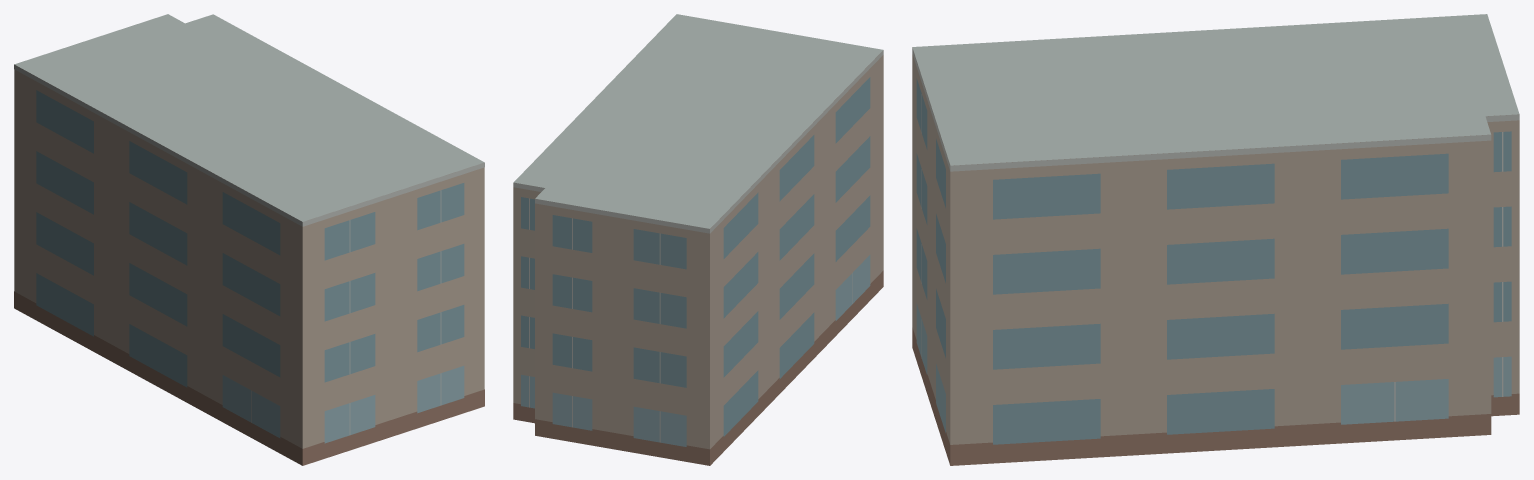
Rendered from residential-8a03fdad-a760-410e-9f4b-f76c2251be18.glb.
3 renders of one model, left to right at view 1: azimuth 30°, elevation 25°; view 2: azimuth 150°, elevation 25°; view 3: azimuth 270°, elevation 25°, orthographic. The views are drawn at different scales.
Parts seen in each view (by area): view 1: residential-8a03fdad-a760-410e-9f4b-f76c2251be18.tmp; view 2: residential-8a03fdad-a760-410e-9f4b-f76c2251be18.tmp; view 3: residential-8a03fdad-a760-410e-9f4b-f76c2251be18.tmp.
Part boxes in pixels (box(x1,y1,x2,y2)): residential-8a03fdad-a760-410e-9f4b-f76c2251be18.tmp: box(14, 14, 484, 465); residential-8a03fdad-a760-410e-9f4b-f76c2251be18.tmp: box(513, 14, 883, 465); residential-8a03fdad-a760-410e-9f4b-f76c2251be18.tmp: box(912, 14, 1519, 465).
Size of the model in its own units: 13.22 by 12.2 by 22.38.
